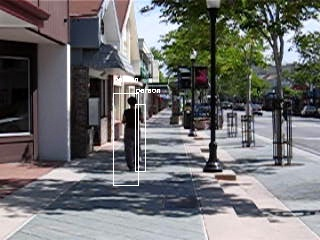person: (123, 96, 146, 171), (122, 96, 145, 171), (124, 96, 147, 171), (123, 95, 146, 170), (123, 97, 146, 172)
target_negative: (39, 109, 106, 195), (68, 107, 303, 129), (114, 200, 215, 234), (267, 146, 308, 206), (29, 192, 121, 209), (34, 231, 199, 234)
